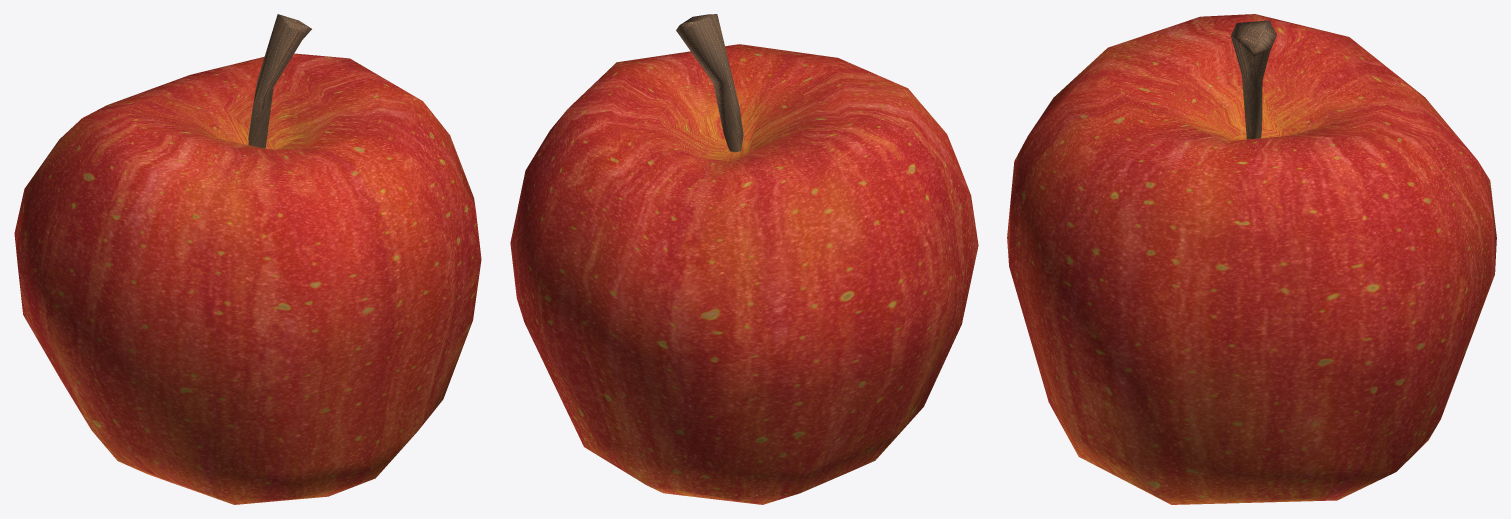
The model's file is apple_mat_LOD2.fbx.
3 views of the same model, side by side, from view 1: azimuth 30°, elevation 25°; view 2: azimuth 150°, elevation 25°; view 3: azimuth 270°, elevation 25° (orthographic). The views are drawn at different scales.
Parts seen in each view (by area): view 1: Sphere, Sphere.001; view 2: Sphere, Sphere.001; view 3: Sphere, Sphere.001.
Part boxes in pixels (bbox=[...]): Sphere: bbox=[14, 53, 481, 504]; Sphere.001: bbox=[248, 14, 311, 148]; Sphere: bbox=[510, 44, 978, 504]; Sphere.001: bbox=[676, 14, 743, 152]; Sphere: bbox=[1007, 14, 1496, 504]; Sphere.001: bbox=[1231, 20, 1276, 139].
Bounding box in the file's own units: 180 × 183 × 180.
2 materials, 2 textured.
